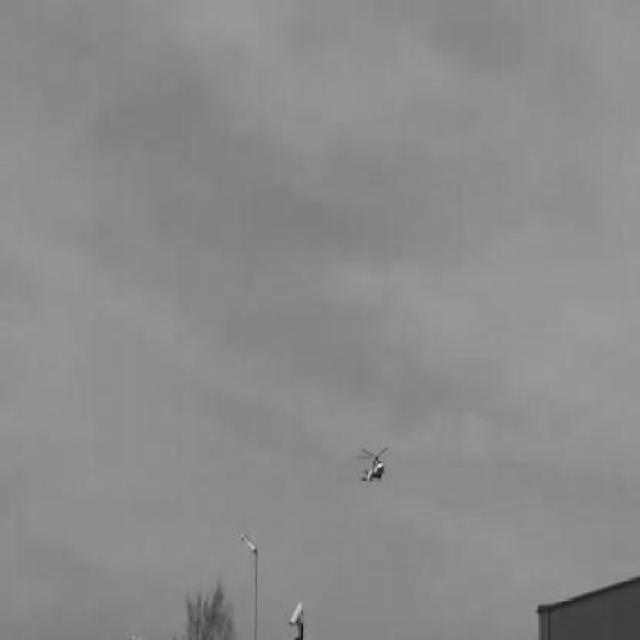helikopter: (353, 438, 395, 492)
